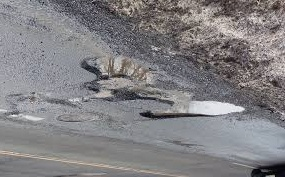pothole: (214, 0, 279, 87), (73, 54, 158, 98), (170, 0, 212, 57), (133, 100, 250, 120), (114, 0, 164, 32), (4, 90, 76, 106), (55, 110, 102, 126), (6, 111, 48, 124)
